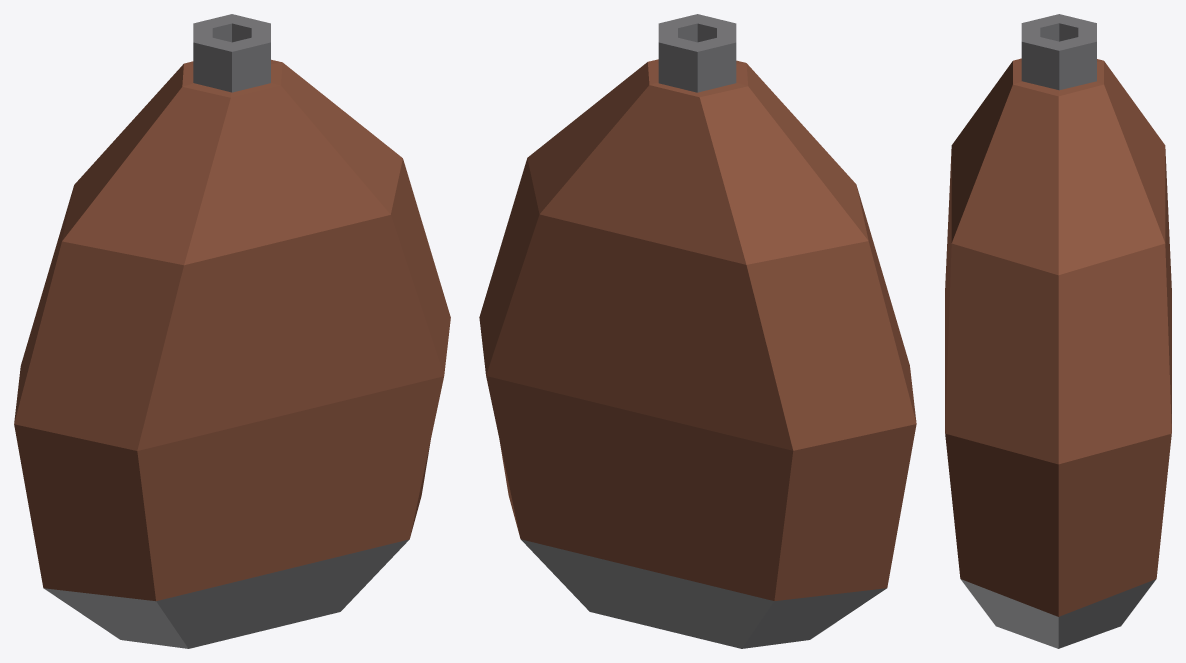
Rendered from WaterBootle.fbx.
The picture shows the model from 3 angles, left to right: view 1: azimuth 30°, elevation 25°; view 2: azimuth 150°, elevation 25°; view 3: azimuth 270°, elevation 25°; orthographic projection. The views are drawn at different scales.
Parts seen in each view (by area): view 1: WaterBottle; view 2: WaterBottle; view 3: WaterBottle.
Part boxes in pixels (x1,y1,x2,y2): WaterBottle: (14, 14, 450, 648); WaterBottle: (479, 14, 916, 648); WaterBottle: (945, 14, 1171, 648).
Size of the model in its own units: 0.5659 by 0.7178 by 0.2615.
1 material, 1 textured.
